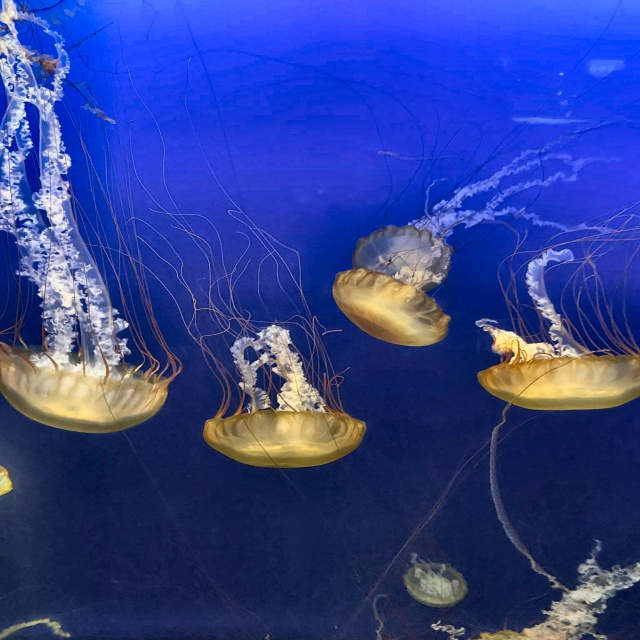jellyfish: (0, 331, 177, 433), (187, 400, 374, 469), (469, 345, 639, 416), (334, 267, 448, 347), (348, 228, 463, 289), (403, 561, 471, 604)
